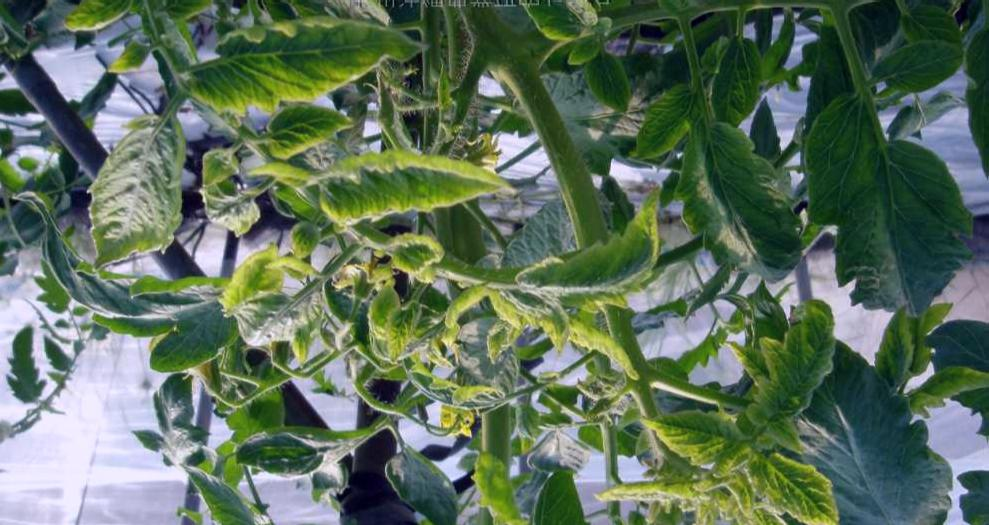Tomato leaf yellow virus: (185, 15, 432, 113), (81, 100, 211, 283), (528, 195, 673, 318), (301, 150, 528, 227), (747, 301, 843, 435), (754, 444, 848, 525), (219, 238, 296, 336), (651, 396, 747, 471), (491, 0, 615, 48)
